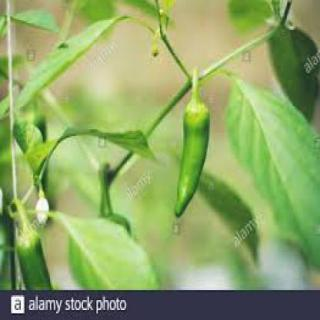green_chilli: (172, 96, 218, 216), (16, 231, 55, 290)
